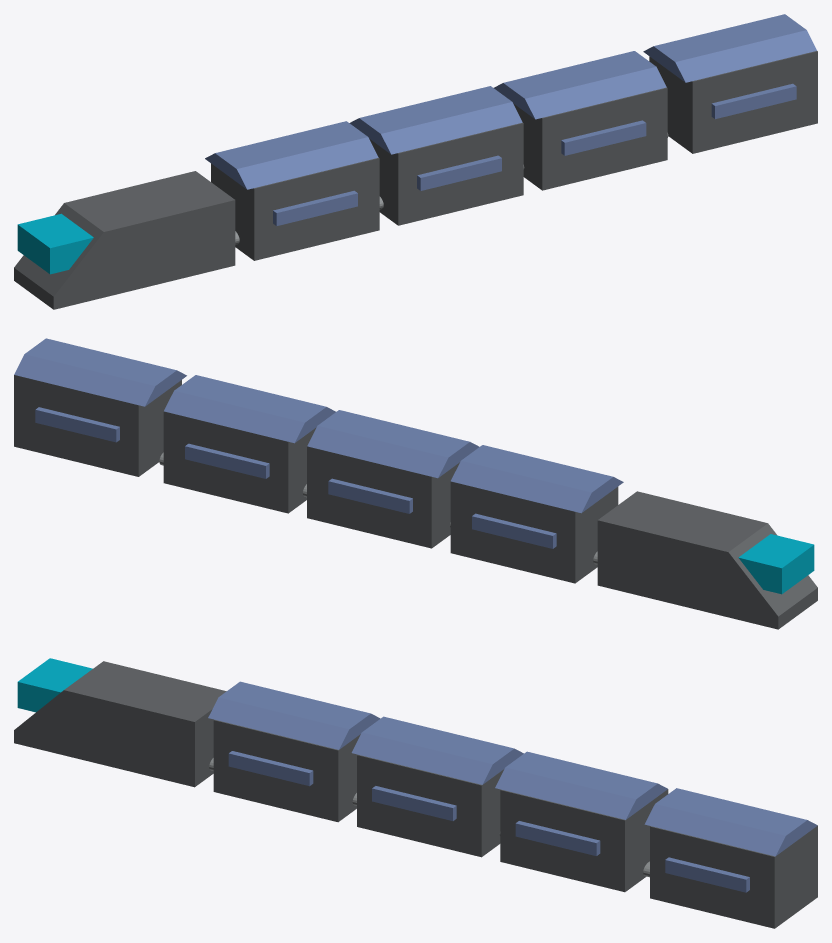
Rendered from SuperTuring.glb.
3 views of the same model, one above another, from view 1: azimuth 30°, elevation 25°; view 2: azimuth 150°, elevation 25°; view 3: azimuth 330°, elevation 25° (orthographic).
Visible parts, largest first — view 1: Mesh_Mesh_head_geo.001_lambert2SG.001; view 2: Mesh_Mesh_head_geo.001_lambert2SG.001; view 3: Mesh_Mesh_head_geo.001_lambert2SG.001.
Part boxes in pixels (<box>): Mesh_Mesh_head_geo.001_lambert2SG.001: <box>14,14,817,309</box>; Mesh_Mesh_head_geo.001_lambert2SG.001: <box>14,338,817,629</box>; Mesh_Mesh_head_geo.001_lambert2SG.001: <box>14,658,817,928</box>.
Size of the model in its own units: 122 by 13 by 14.
